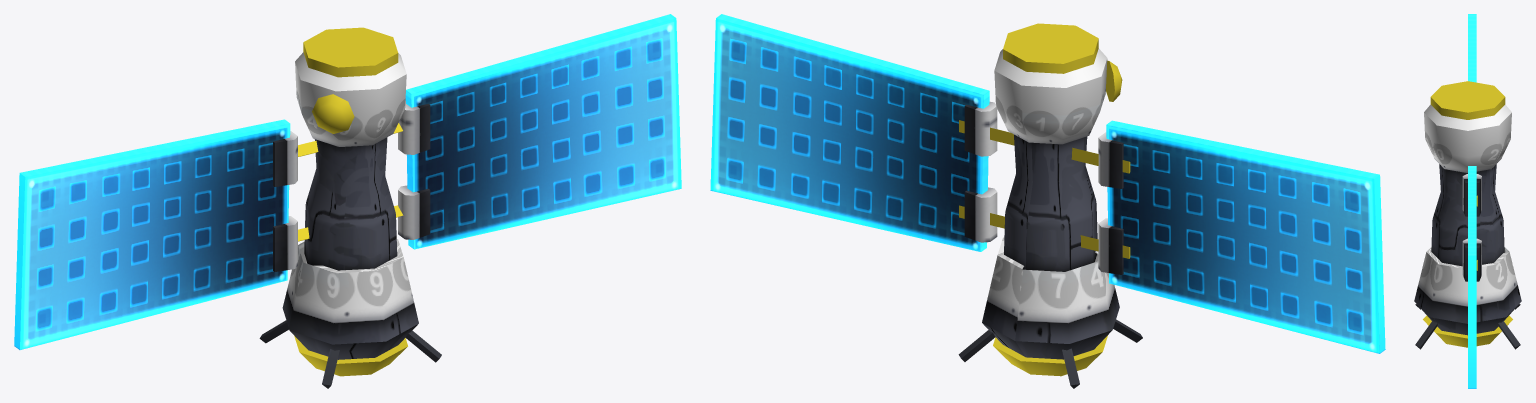
The model's file is sat1.fbx.
3 views of the same model, side by side, from view 1: azimuth 30°, elevation 25°; view 2: azimuth 150°, elevation 25°; view 3: azimuth 270°, elevation 25° (orthographic). The views are drawn at different scales.
Visible parts, largest first — view 1: Vert, Cylinder, Cylinder.002, Cylinder.001, Cylinder.003, Cylinder.005; view 2: Vert, Cylinder, Cylinder.002, Cylinder.001, Cylinder.005; view 3: Cylinder, Vert, Cylinder.002, Cylinder.001, Cylinder.005.
Part boxes in pixels (x1,y1,x2,y2): Vert: (14, 14, 681, 349); Cylinder: (282, 27, 418, 359); Cylinder.002: (273, 101, 430, 271); Cylinder.001: (294, 335, 407, 376); Cylinder.003: (312, 94, 354, 133); Cylinder.005: (259, 320, 441, 388); Vert: (710, 14, 1385, 353); Cylinder: (982, 23, 1119, 359); Cylinder.002: (959, 101, 1130, 274); Cylinder.001: (993, 335, 1107, 376); Cylinder.005: (958, 319, 1142, 388); Cylinder: (1414, 81, 1521, 335); Vert: (1468, 14, 1476, 388); Cylinder.002: (1462, 174, 1481, 281); Cylinder.001: (1423, 315, 1512, 347); Cylinder.005: (1415, 304, 1520, 349).
Size of the model in its own units: 269 by 126 by 49.67.
Materials: 1 (1 with a texture image).
